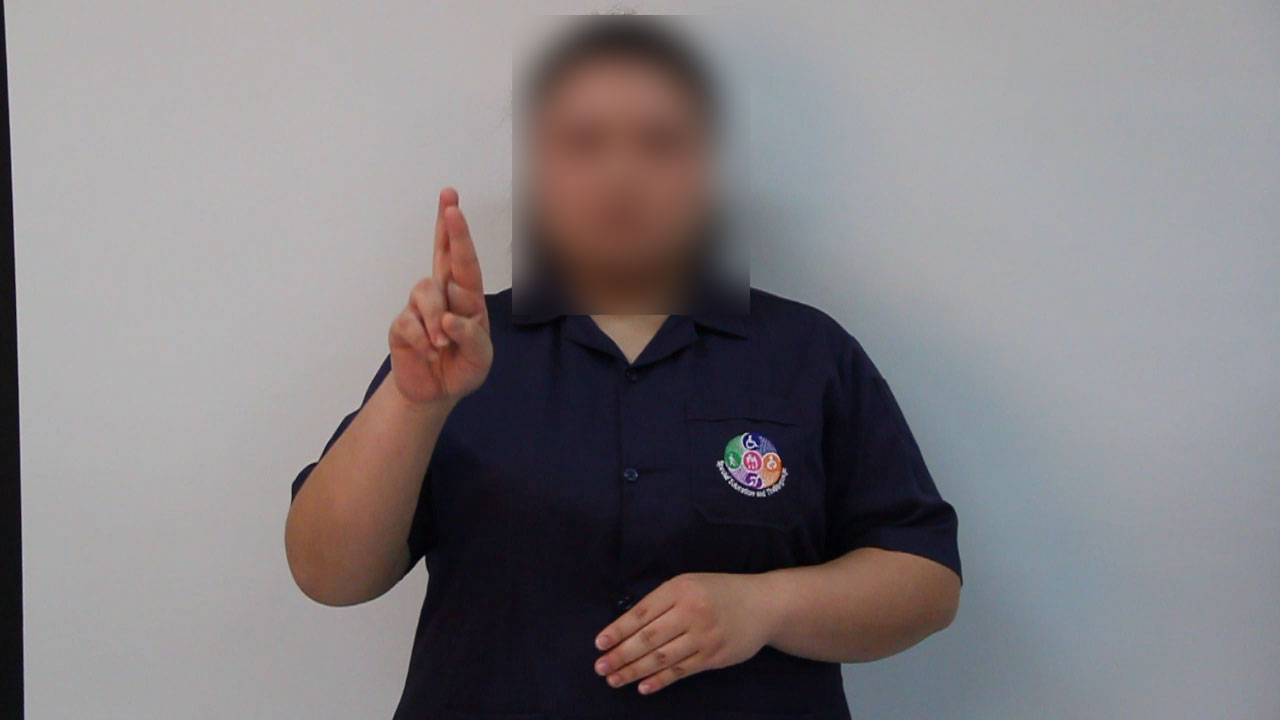rao: (351, 179, 507, 403)
